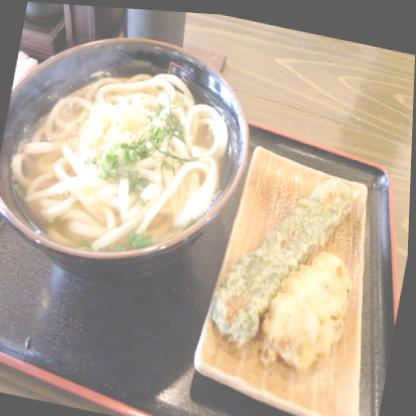Udon: (0, 35, 247, 272)
